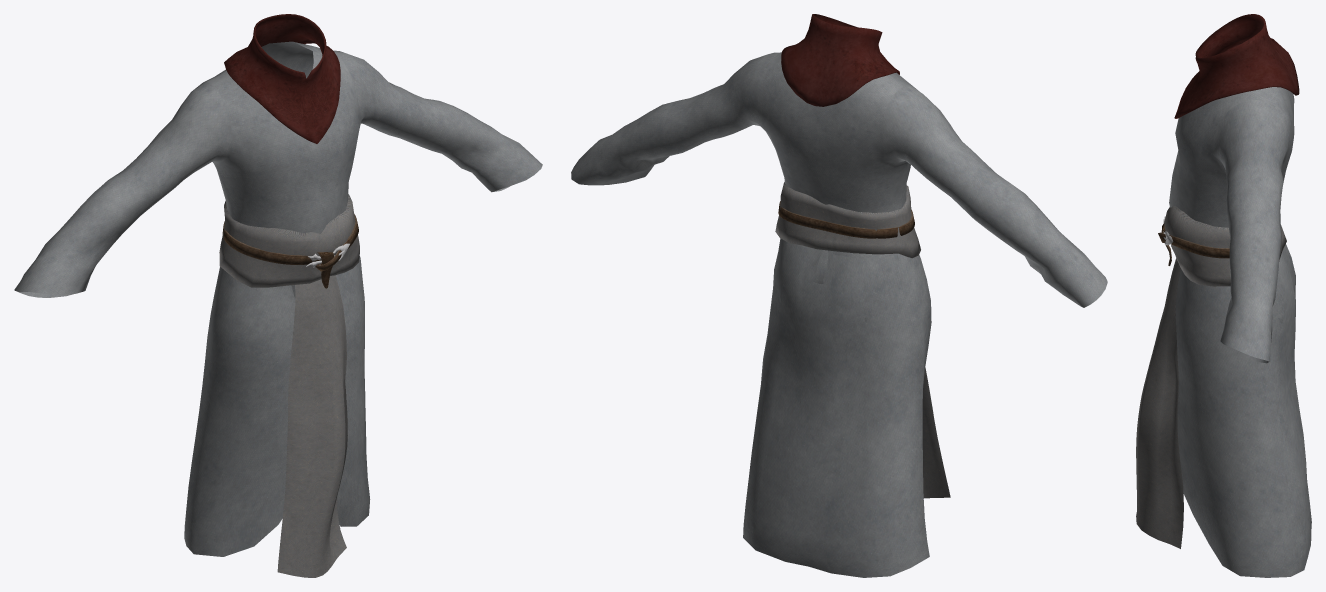
The model's file is rivendell_torso_light_light_tier1.fbx.
3 views of the same model, side by side, from view 1: azimuth 30°, elevation 25°; view 2: azimuth 150°, elevation 25°; view 3: azimuth 270°, elevation 25° (orthographic).
Visible parts, largest first — view 1: rivendell_torso_light_light_tier1.0, rivendell_torso_light_light_tier1.2, rivendell_torso_light_light_tier1.1; view 2: rivendell_torso_light_light_tier1.0, rivendell_torso_light_light_tier1.2, rivendell_torso_light_light_tier1.1; view 3: rivendell_torso_light_light_tier1.0, rivendell_torso_light_light_tier1.2, rivendell_torso_light_light_tier1.1.
Boxes of the visible parts, x1=… form: rivendell_torso_light_light_tier1.0: x1=14, y1=41, x2=542, y2=556; rivendell_torso_light_light_tier1.2: x1=219, y1=194, x2=359, y2=577; rivendell_torso_light_light_tier1.1: x1=224, y1=14, x2=340, y2=143; rivendell_torso_light_light_tier1.0: x1=571, y1=52, x2=1107, y2=577; rivendell_torso_light_light_tier1.2: x1=775, y1=182, x2=950, y2=498; rivendell_torso_light_light_tier1.1: x1=781, y1=14, x2=899, y2=106; rivendell_torso_light_light_tier1.0: x1=1169, y1=87, x2=1311, y2=577; rivendell_torso_light_light_tier1.2: x1=1136, y1=205, x2=1286, y2=548; rivendell_torso_light_light_tier1.1: x1=1174, y1=14, x2=1299, y2=118.
Size of the model in its own units: 1.52 by 0.4435 by 1.45.
Materials: 3 (3 with a texture image).
